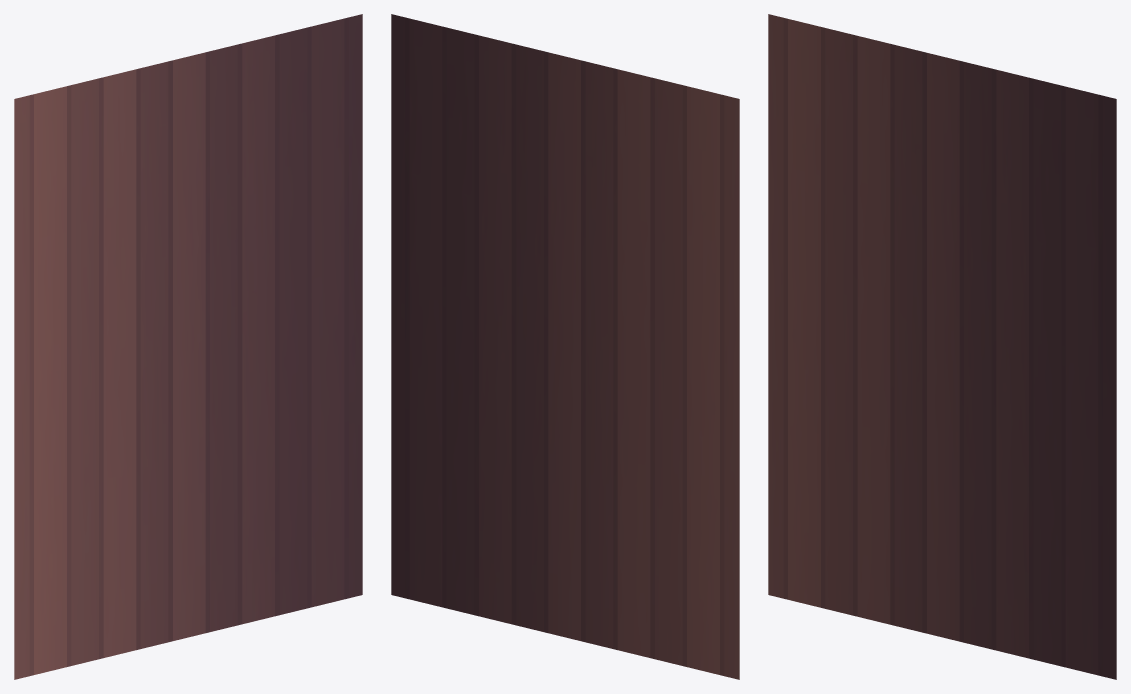
Rendered from SM_BackGround_2_Block_Lvl2.fbx.
3 renders of one model, left to right at view 1: azimuth 30°, elevation 25°; view 2: azimuth 150°, elevation 25°; view 3: azimuth 330°, elevation 25°, orthographic.
Parts seen in each view (by area): view 1: Base_sideNew.Right; view 2: Base_sideNew.Right; view 3: Base_sideNew.Right.
Part boxes in pixels (x1,y1,x2,y2): Base_sideNew.Right: [14, 14, 362, 679]; Base_sideNew.Right: [391, 14, 739, 679]; Base_sideNew.Right: [768, 14, 1116, 679].
Size of the model in its own units: 2.2e-05 by 502 by 800.
